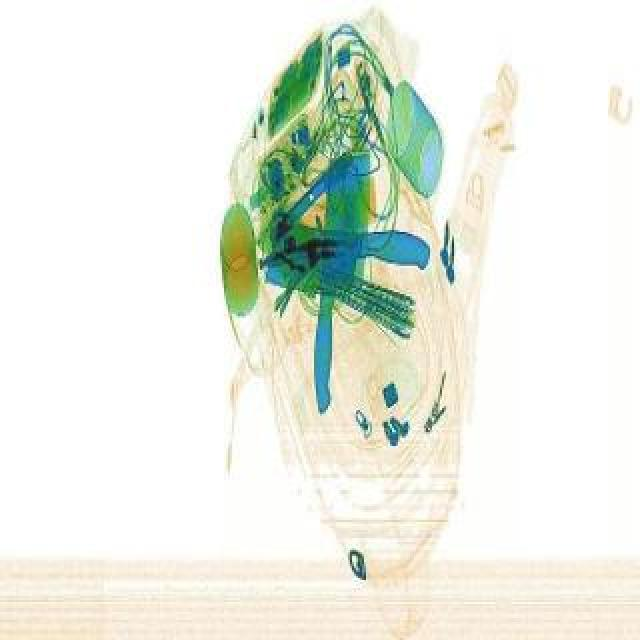knife: (262, 206, 432, 312), (312, 152, 372, 410)
